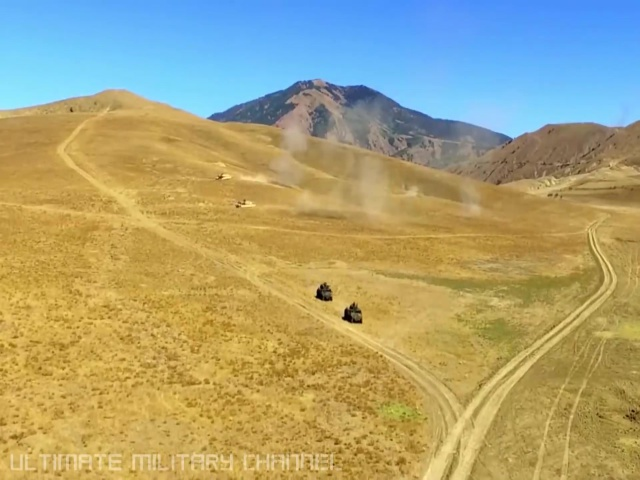vehicle: (343, 301, 364, 324), (315, 282, 333, 302)
